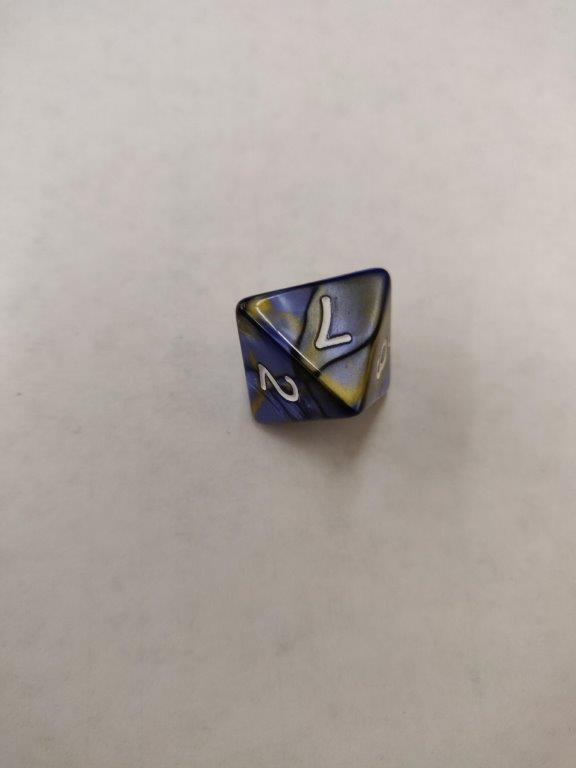d8-7: (236, 265, 391, 423)
